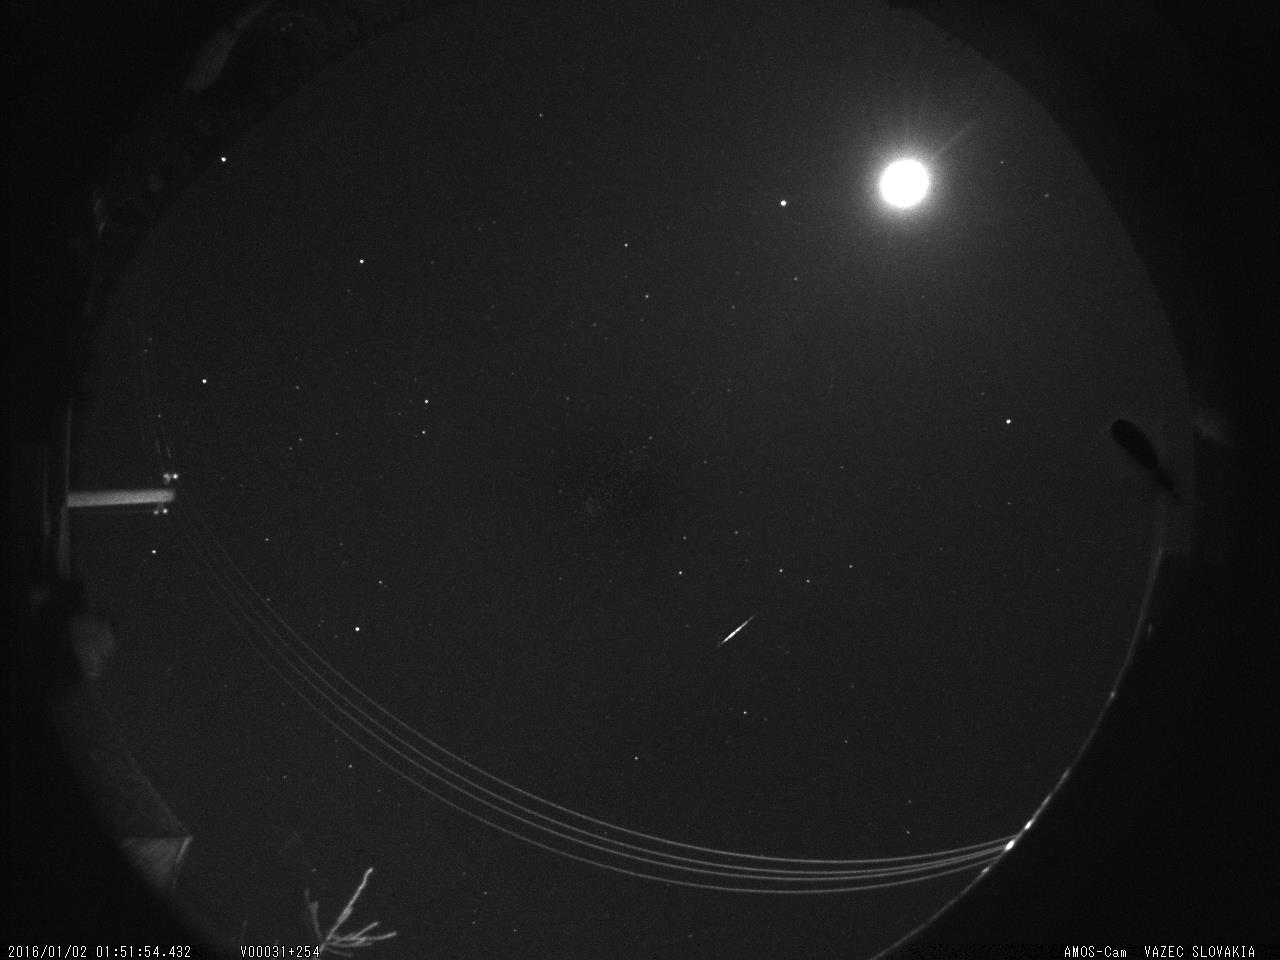meteor: (718, 597, 751, 686)
